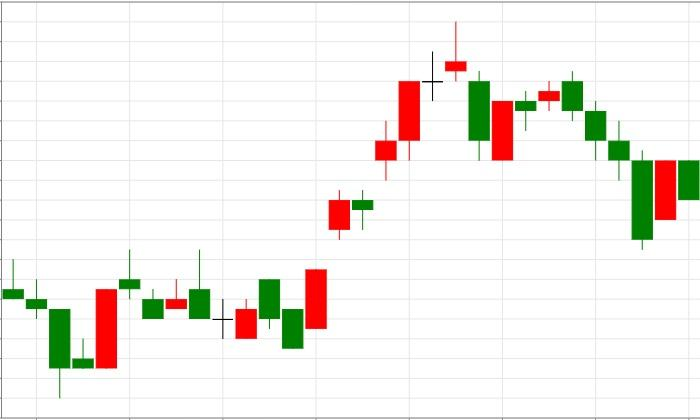bearish_engulfing_fall: (491, 71, 584, 180)
morning_star_rise: (2, 260, 118, 398)
three_black_crows_fall: (491, 70, 631, 180)
